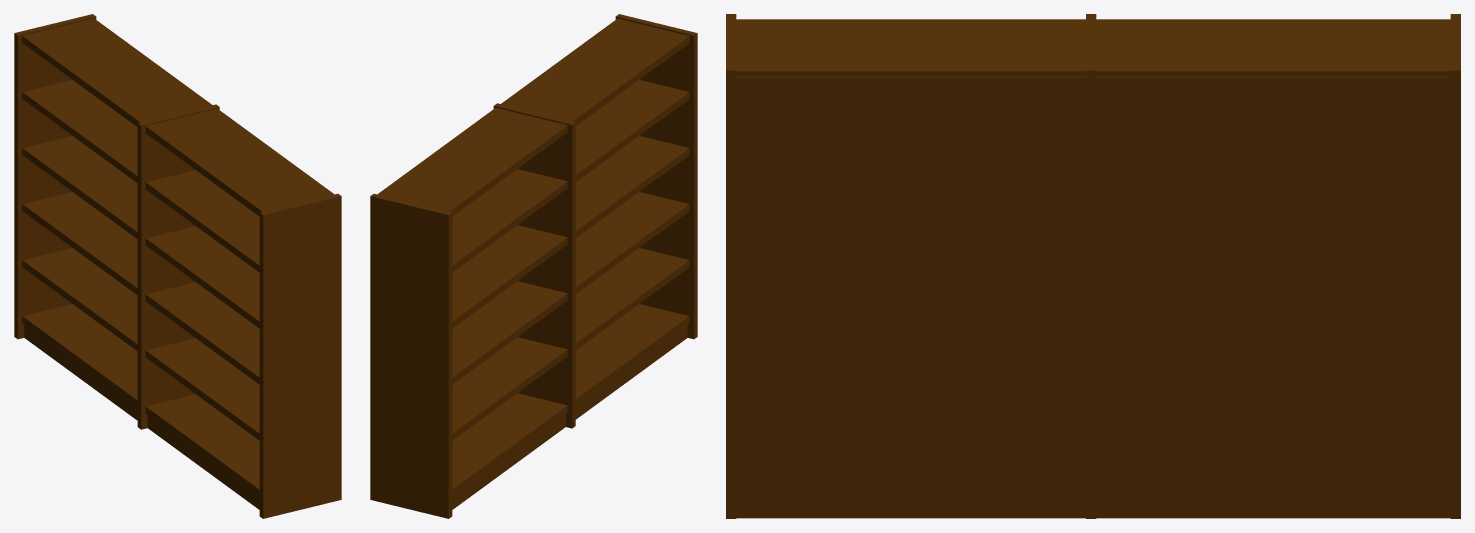
The model's file is mueble.fbx.
3 views of the same model, side by side, from view 1: azimuth 30°, elevation 25°; view 2: azimuth 150°, elevation 25°; view 3: azimuth 270°, elevation 25° (orthographic). The views are drawn at different scales.
Parts seen in each view (by area): view 1: pCube192; view 2: pCube192; view 3: pCube192.
Part boxes in pixels (x1,y1,x2,y2): pCube192: (14,14,341,518); pCube192: (370,14,697,518); pCube192: (726,14,1460,518).
Bounding box in the file's own units: 2.64 × 9.77 × 14.51.
